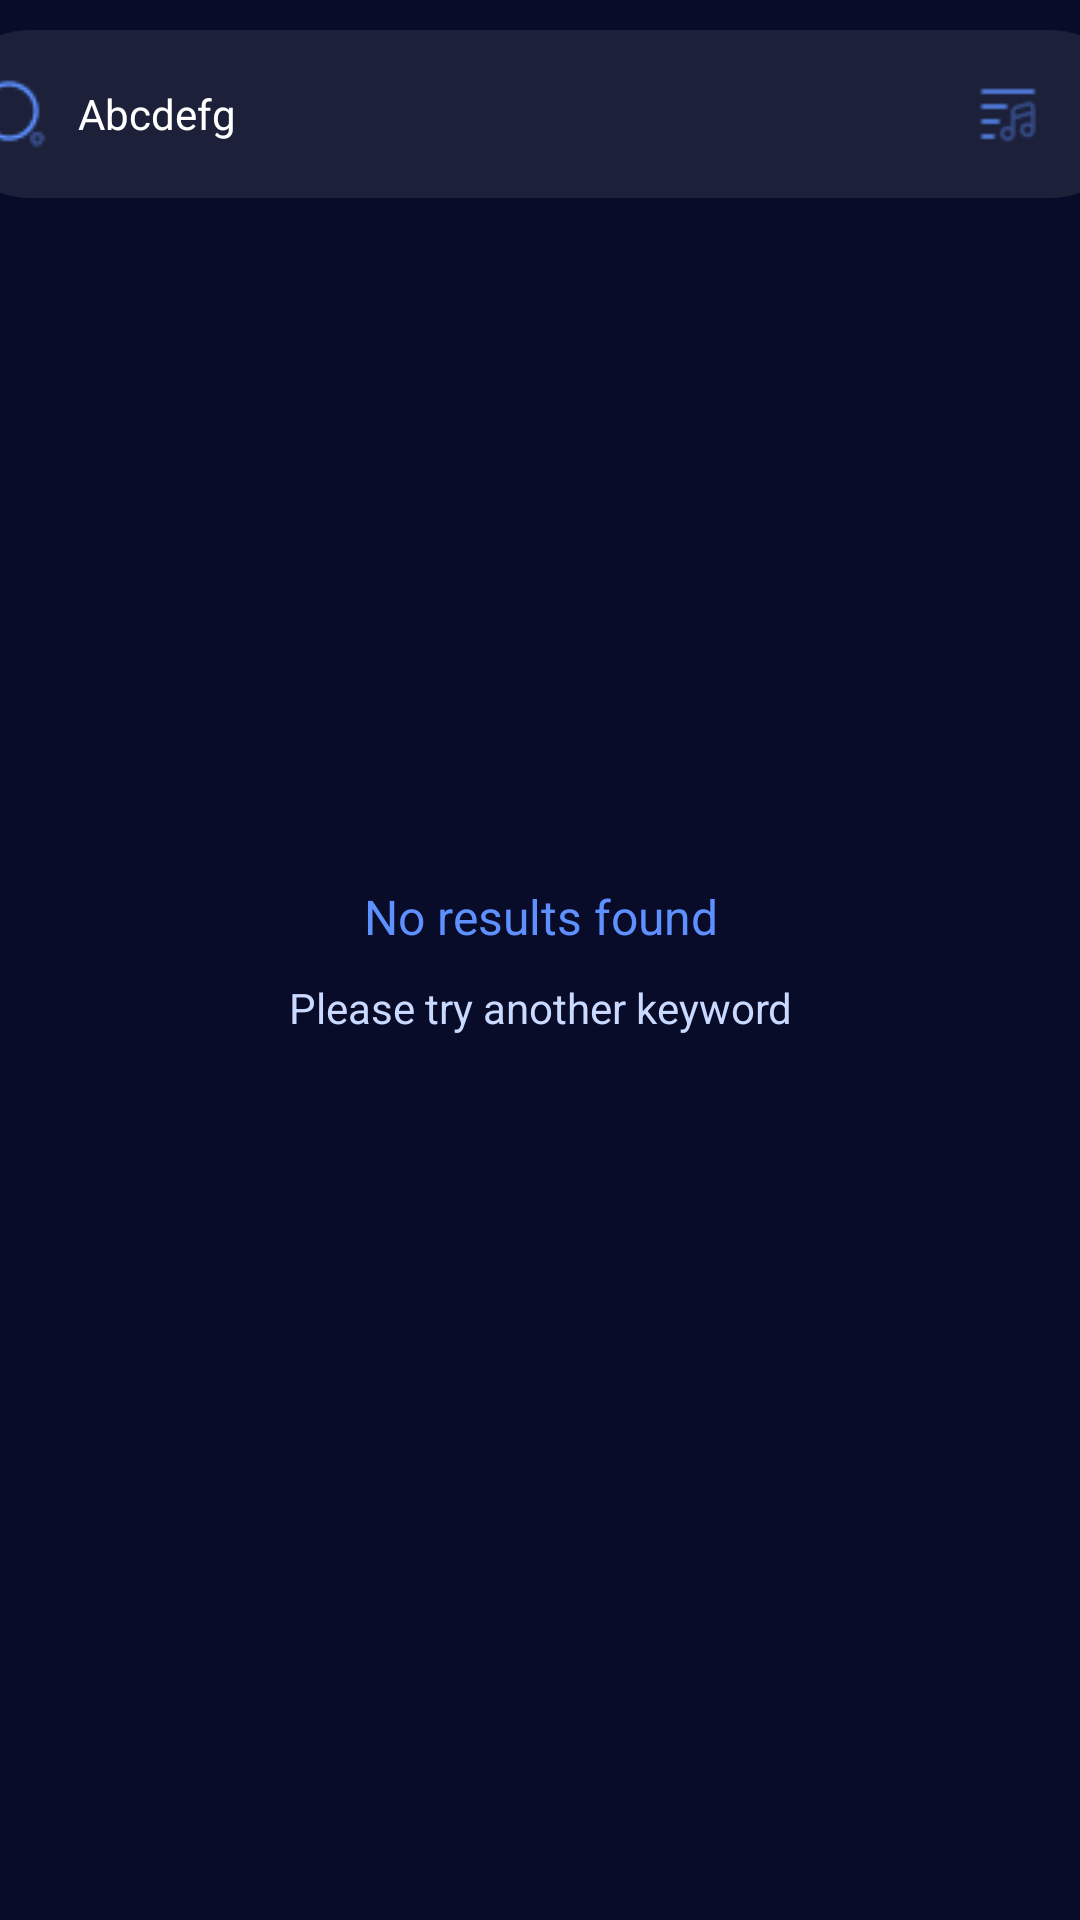

Icon click points for this 1080px x 1920px phone screenshot, format point (x, y):
musicfilter: point (1008, 115)
